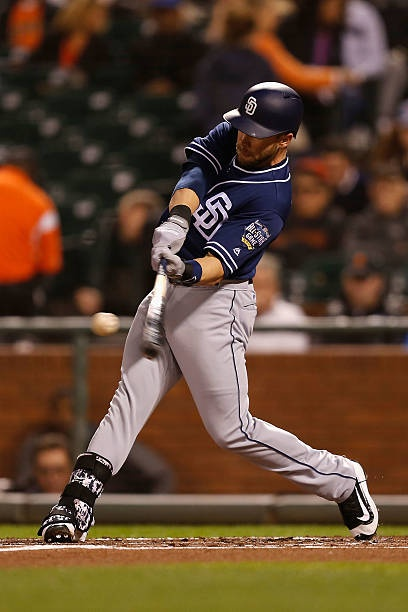bita: (133, 243, 187, 364)
